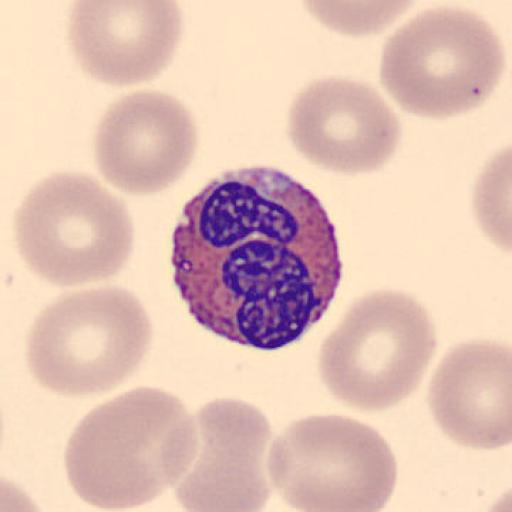RBC: (64, 384, 198, 512), (317, 285, 440, 415), (10, 167, 136, 289), (23, 283, 156, 398), (378, 4, 507, 122), (264, 410, 400, 512), (285, 73, 403, 178), (92, 88, 200, 198), (172, 396, 273, 512), (65, 0, 185, 89), (426, 335, 512, 452), (293, 0, 421, 39), (471, 143, 512, 256), (2, 474, 52, 512), (482, 478, 512, 512)
WBC: (166, 164, 346, 352)
